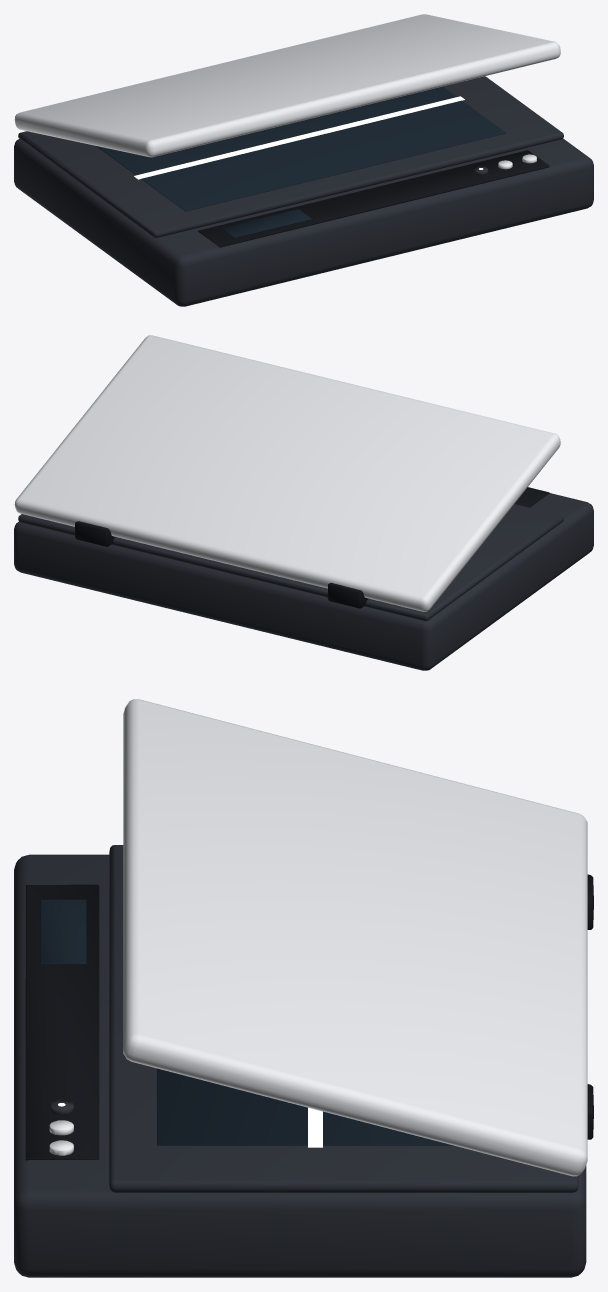
File: dev-scanner_lod1.glb
The picture shows the model from 3 angles, top to bottom: view 1: azimuth 30°, elevation 25°; view 2: azimuth 150°, elevation 25°; view 3: azimuth 270°, elevation 25°; orthographic projection. The views are drawn at different scales.
Visible parts, largest first — view 1: body; view 2: body; view 3: body.
Boxes of the visible parts, bbox=[...] form: body: bbox=[14, 14, 593, 306]; body: bbox=[14, 335, 593, 670]; body: bbox=[14, 699, 593, 1277].
Size of the model in its own units: 0.43 by 0.1422 by 0.304.
